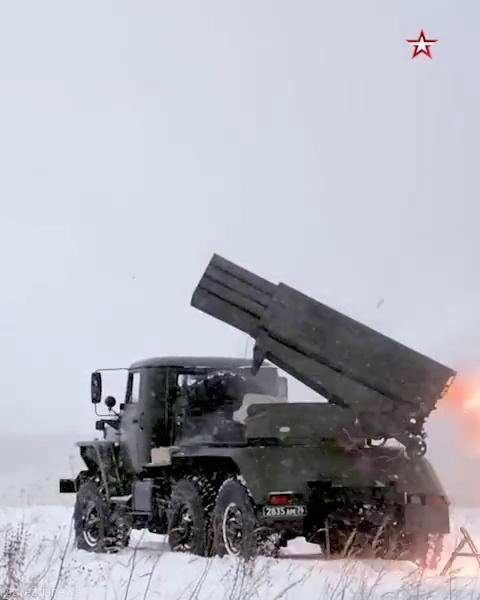MIL_SAM_TEL: (68, 245, 460, 569)
